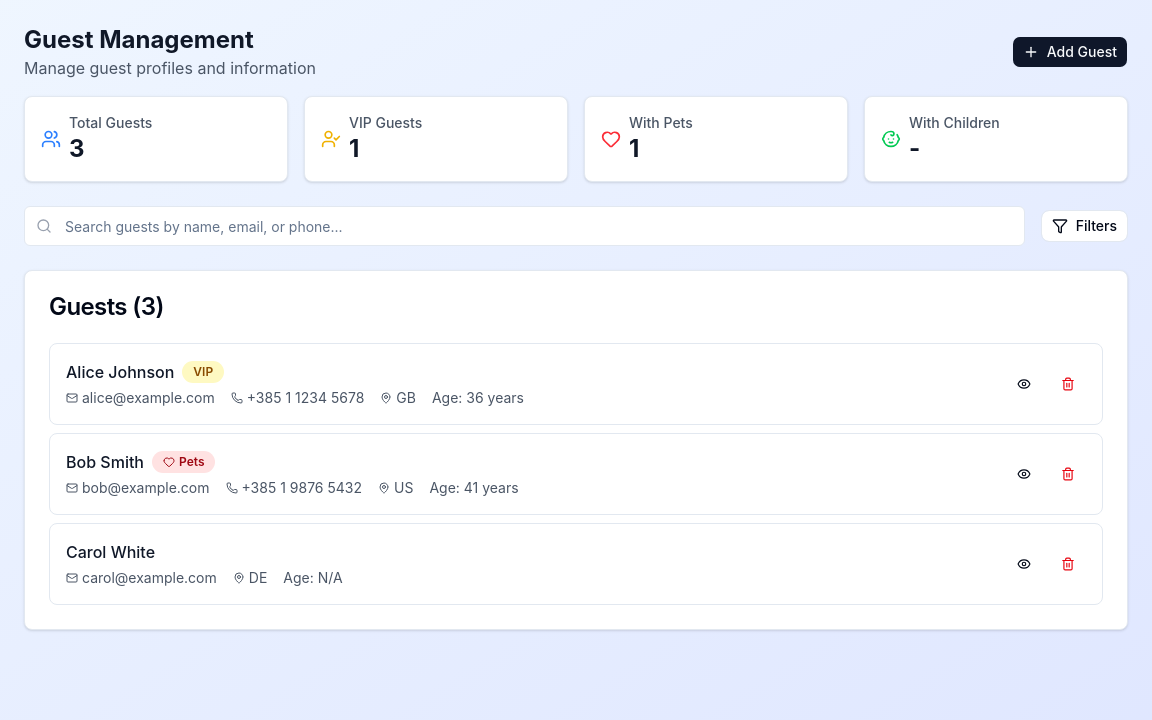
Test: GuestsPage › search filter › filters guests by name case-insensitively
Type "bob" into the field with placeholder "Search guests by name, email, or phone..." at [524, 226], box x1=24 y1=206 x2=1025 y2=246
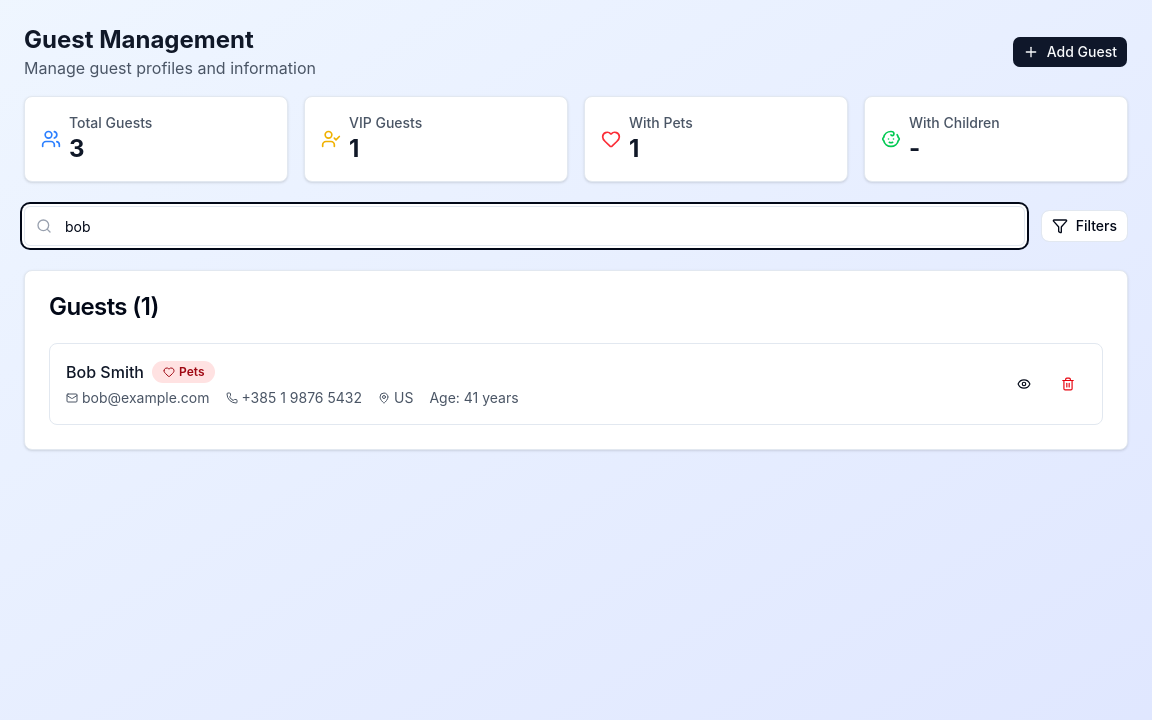
Expected: the heading "Bob Smith" is shown, x1=66 y1=360 x2=144 y2=384
Now the heading "Alice Johnson" is gone
